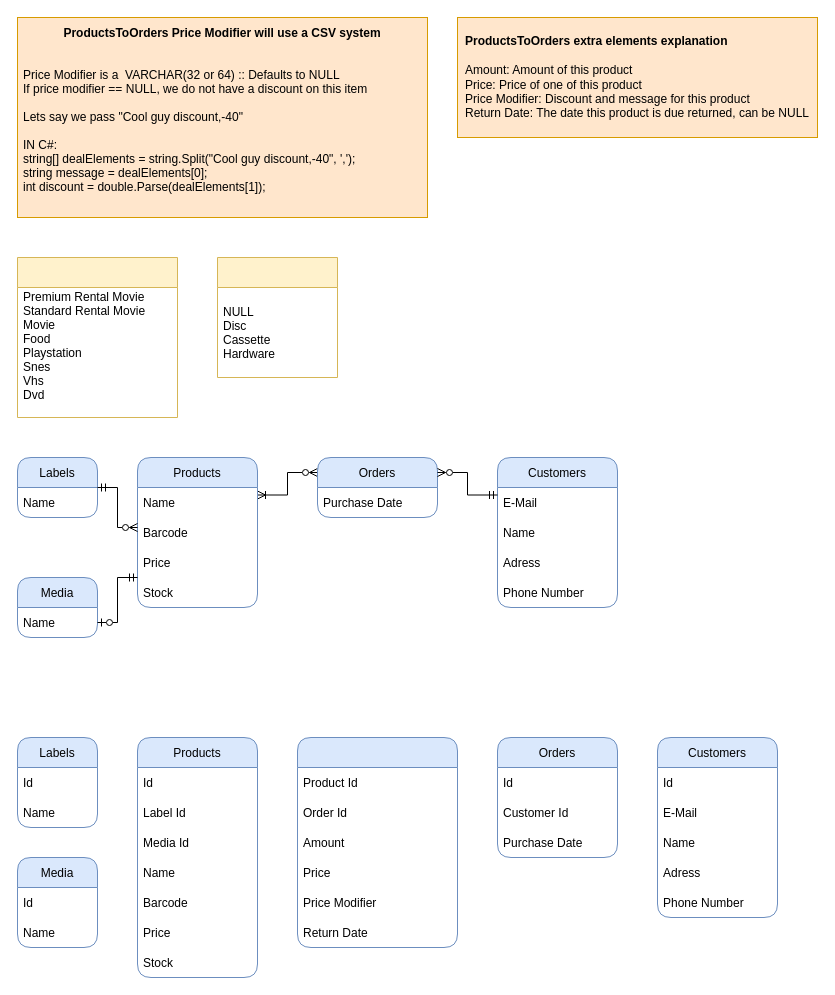
This 835x995 diagram has some shape labels left out. The shapes that lost their labels are listed below. From the top down, each one's box as (x1, y1, x2, y2) in pixels, then its label:
(16, 256, 178, 418): LABEL EXAMPLES
(216, 256, 338, 378): MEDIA EXAMPLES
(296, 736, 458, 948): ProductsToOrders
